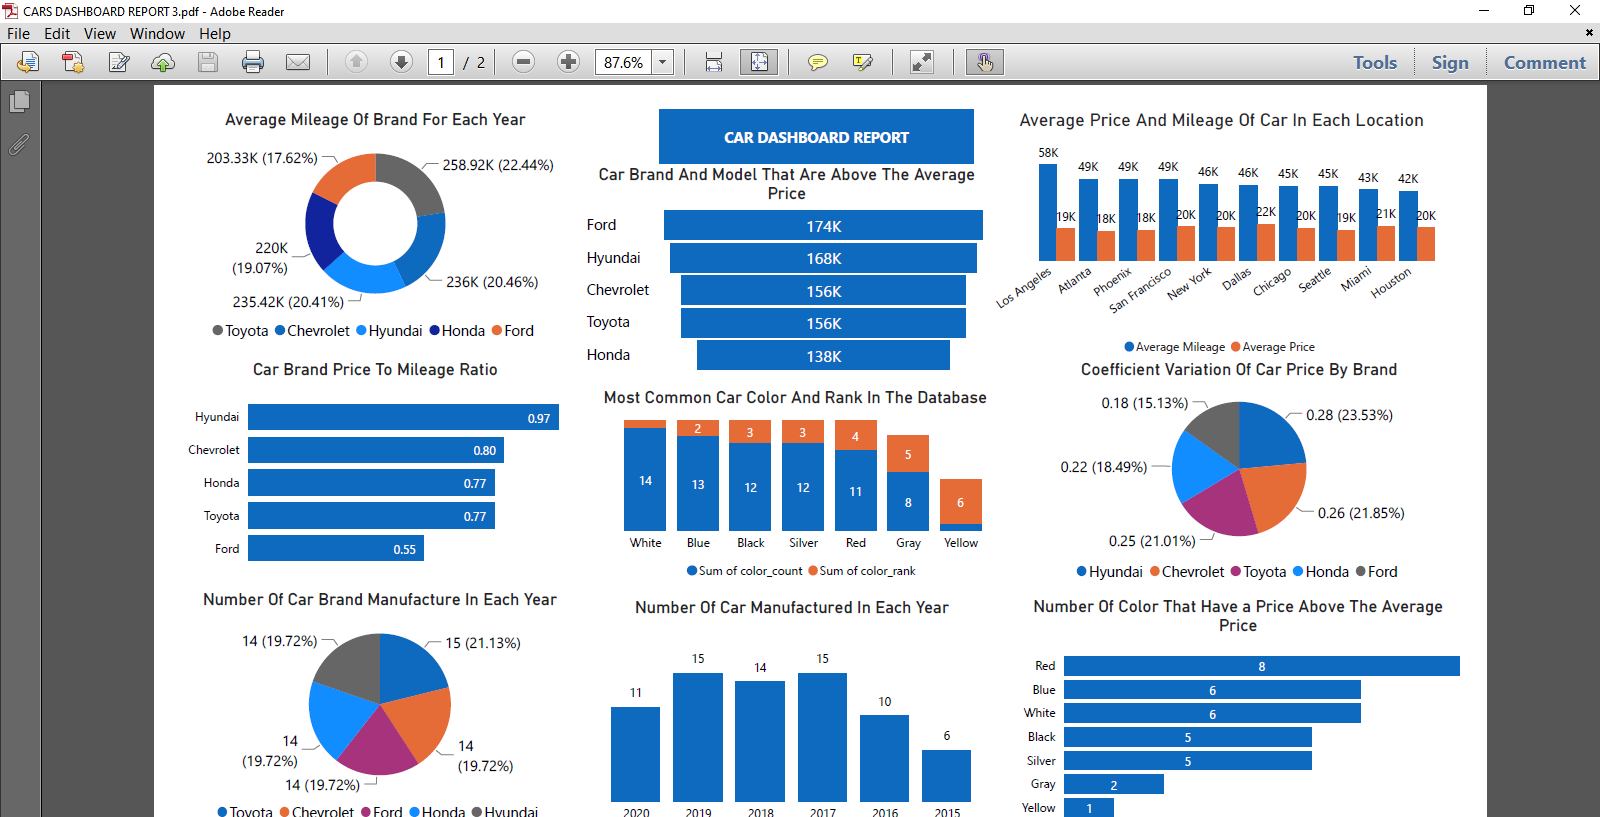

This screenshot's page, from the dashboard's own definition file:
{"tool":"powerbi","page":{"name":"Page 1","canvas":[1280,720],"ordinal":0},"visuals":[{"type":"textbox","box":[418.1,0,393,54.7],"z":0},{"type":"donutChart","title":"Average Mileage Of Brand For Each Year","fields":{"Category":["Average mileage of brand for each year.brand","Average mileage of brand for each year.year"],"Y":["Sum(Average mileage of brand for each year.avg_mileage)"]},"box":[0,0,393.3,239.5],"z":1000},{"type":"lineClusteredColumnComboChart","title":"Average Price And Mileage Of Car In Each Location","fields":{"Category":["Average price and mileage of cars in each location.location"],"Y":["Sum(Average price and mileage of cars in each location.avg_mileage)","Sum(Average price and mileage of cars in each location.avg_price)"]},"box":[810.8,0,469.2,254.9],"z":2000},{"type":"barChart","title":"Car Brand Price To Mileage Ratio","fields":{"Category":["Car brand price to mileage ratio.brand"],"Y":["Sum(Car brand price to mileage ratio.price_mileage_ratio)"]},"box":[0,249.4,393.3,219.7],"z":4000},{"type":"pieChart","title":"Coefficient Variation Of Car Price By Brand","fields":{"Category":["coefficient  variation  of car price by brand.brand"],"Y":["Sum(coefficient  variation  of car price by brand.coefficient_of_variation)"]},"box":[833.9,249.4,446.1,230.7],"z":5000},{"type":"pieChart","title":"Number Of Car Brand Manufacture In Each Year","fields":{"Category":["Number of cars  brand manufacture in each year.brand","Number of cars  brand manufacture in each year.year"],"Y":["Sum(Number of cars  brand manufacture in each year.num_of_brand)"]},"box":[0,477.9,402.1,241.7],"z":6000},{"type":"lineStackedColumnComboChart","title":"Number Of Car Manufactured  In Each Year","fields":{"Category":["Number of cars manufactured  in each year.year"],"Y":["Sum(Number of cars manufactured  in each year.num_of_cars)"]},"box":[402.1,485.6,418.6,234],"z":7000},{"type":"barChart","title":"Number Of Color That Have a Price Above The Average Price","fields":{"Category":["Number of color that have a price above the average price.color"],"Y":["Sum(Number of color that have a price above the average price.num_of_car)"]},"box":[830.5,485.3,450,234.7],"z":8000},{"type":"columnChart","title":"Most Common Car Color And Rank In The  Database","fields":{"Category":["Most common car colors in the database.color"],"Y":["Sum(Most common car colors in the database.color_count)","Sum(Most common car colors in the database.color_rank)"]},"box":[418.6,276.9,408.7,201.1],"z":9000},{"type":"card","title":"Price Difference Between The Most Expensive And Cheapest Car","fields":{"Values":["Sum(Price difference between cheapest and the most expensive cars.pricedifference)"]},"box":[443.2,70.6,358.9,178.9],"z":9001}]}

Visuals, with their boxes on the page's 1280x720 design canvas (x1, y1, x2, y2). These are canvas units, not pixel positions in the 1600x817 screenshot, which may show the page scaled, cropped or inside an application window:
textbox: <bbox>418, 0, 811, 55</bbox>
"Average Mileage Of Brand For Each Year" donutChart: <bbox>0, 0, 393, 240</bbox>
"Average Price And Mileage Of Car In Each Location" lineClusteredColumnComboChart: <bbox>811, 0, 1280, 255</bbox>
"Car Brand Price To Mileage Ratio" barChart: <bbox>0, 249, 393, 469</bbox>
"Coefficient Variation Of Car Price By Brand" pieChart: <bbox>834, 249, 1280, 480</bbox>
"Number Of Car Brand Manufacture In Each Year" pieChart: <bbox>0, 478, 402, 720</bbox>
"Number Of Car Manufactured  In Each Year" lineStackedColumnComboChart: <bbox>402, 486, 821, 720</bbox>
"Number Of Color That Have a Price Above The Average Price" barChart: <bbox>830, 485, 1280, 720</bbox>
"Most Common Car Color And Rank In The  Database" columnChart: <bbox>419, 277, 827, 478</bbox>
"Price Difference Between The Most Expensive And Cheapest Car" card: <bbox>443, 71, 802, 250</bbox>
